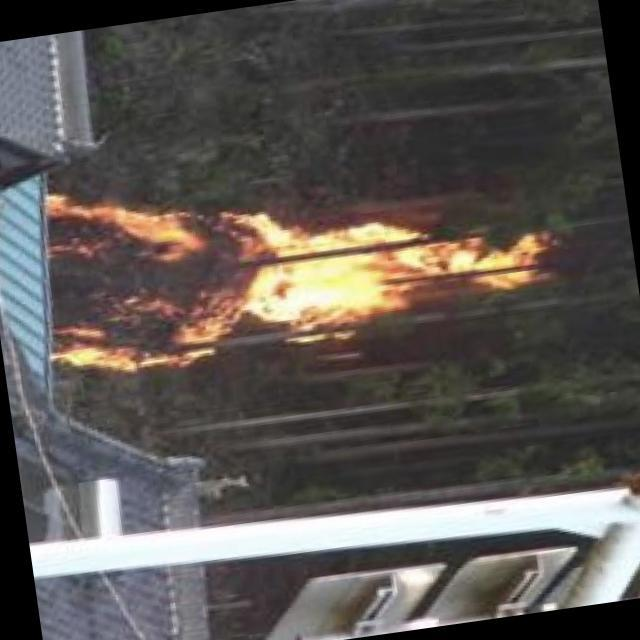Fire: (37, 136, 559, 386)
